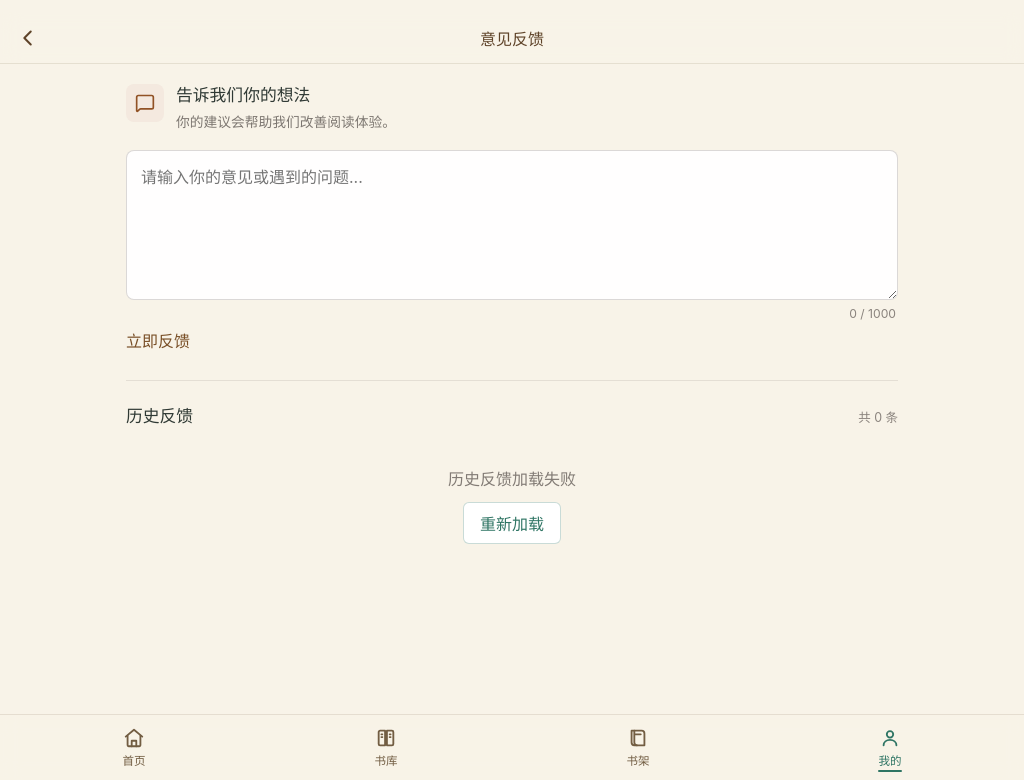
Test: FeedbackPage › keeps form usable when history loading fails and retries
Expected: the text "历史反馈加载失败" is shown, [448,469,576,489]
Expected: the text box named "反馈内容" is enabled, [126,150,898,300]
Click the button "重新加载" at point(512, 523), box [463,502,561,544]
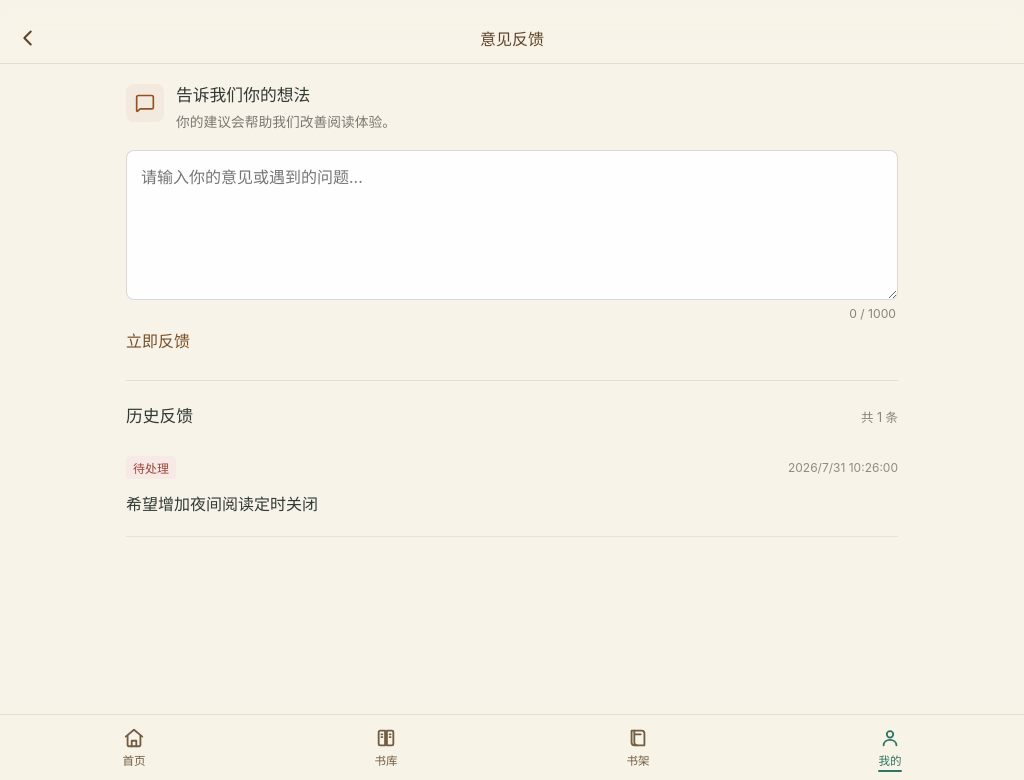
Result: the text "希望增加夜间阅读定时关闭" is shown at [126,494,318,514]
